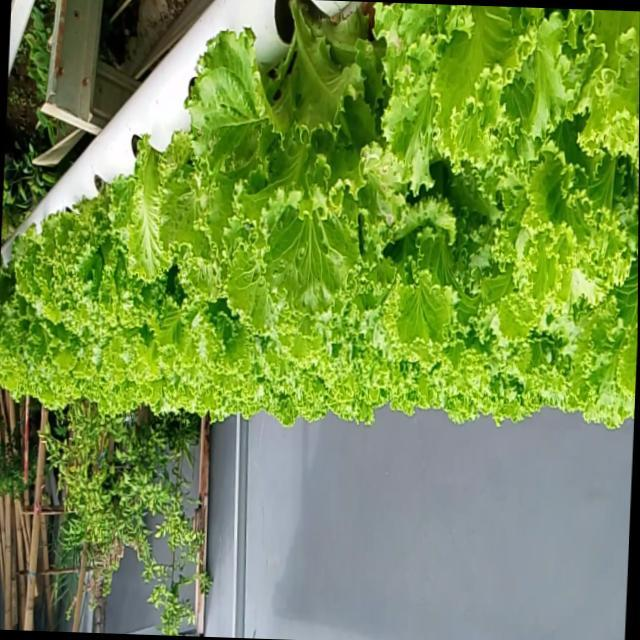Mature: (0, 2, 640, 443), (171, 17, 370, 321), (0, 167, 144, 385)
